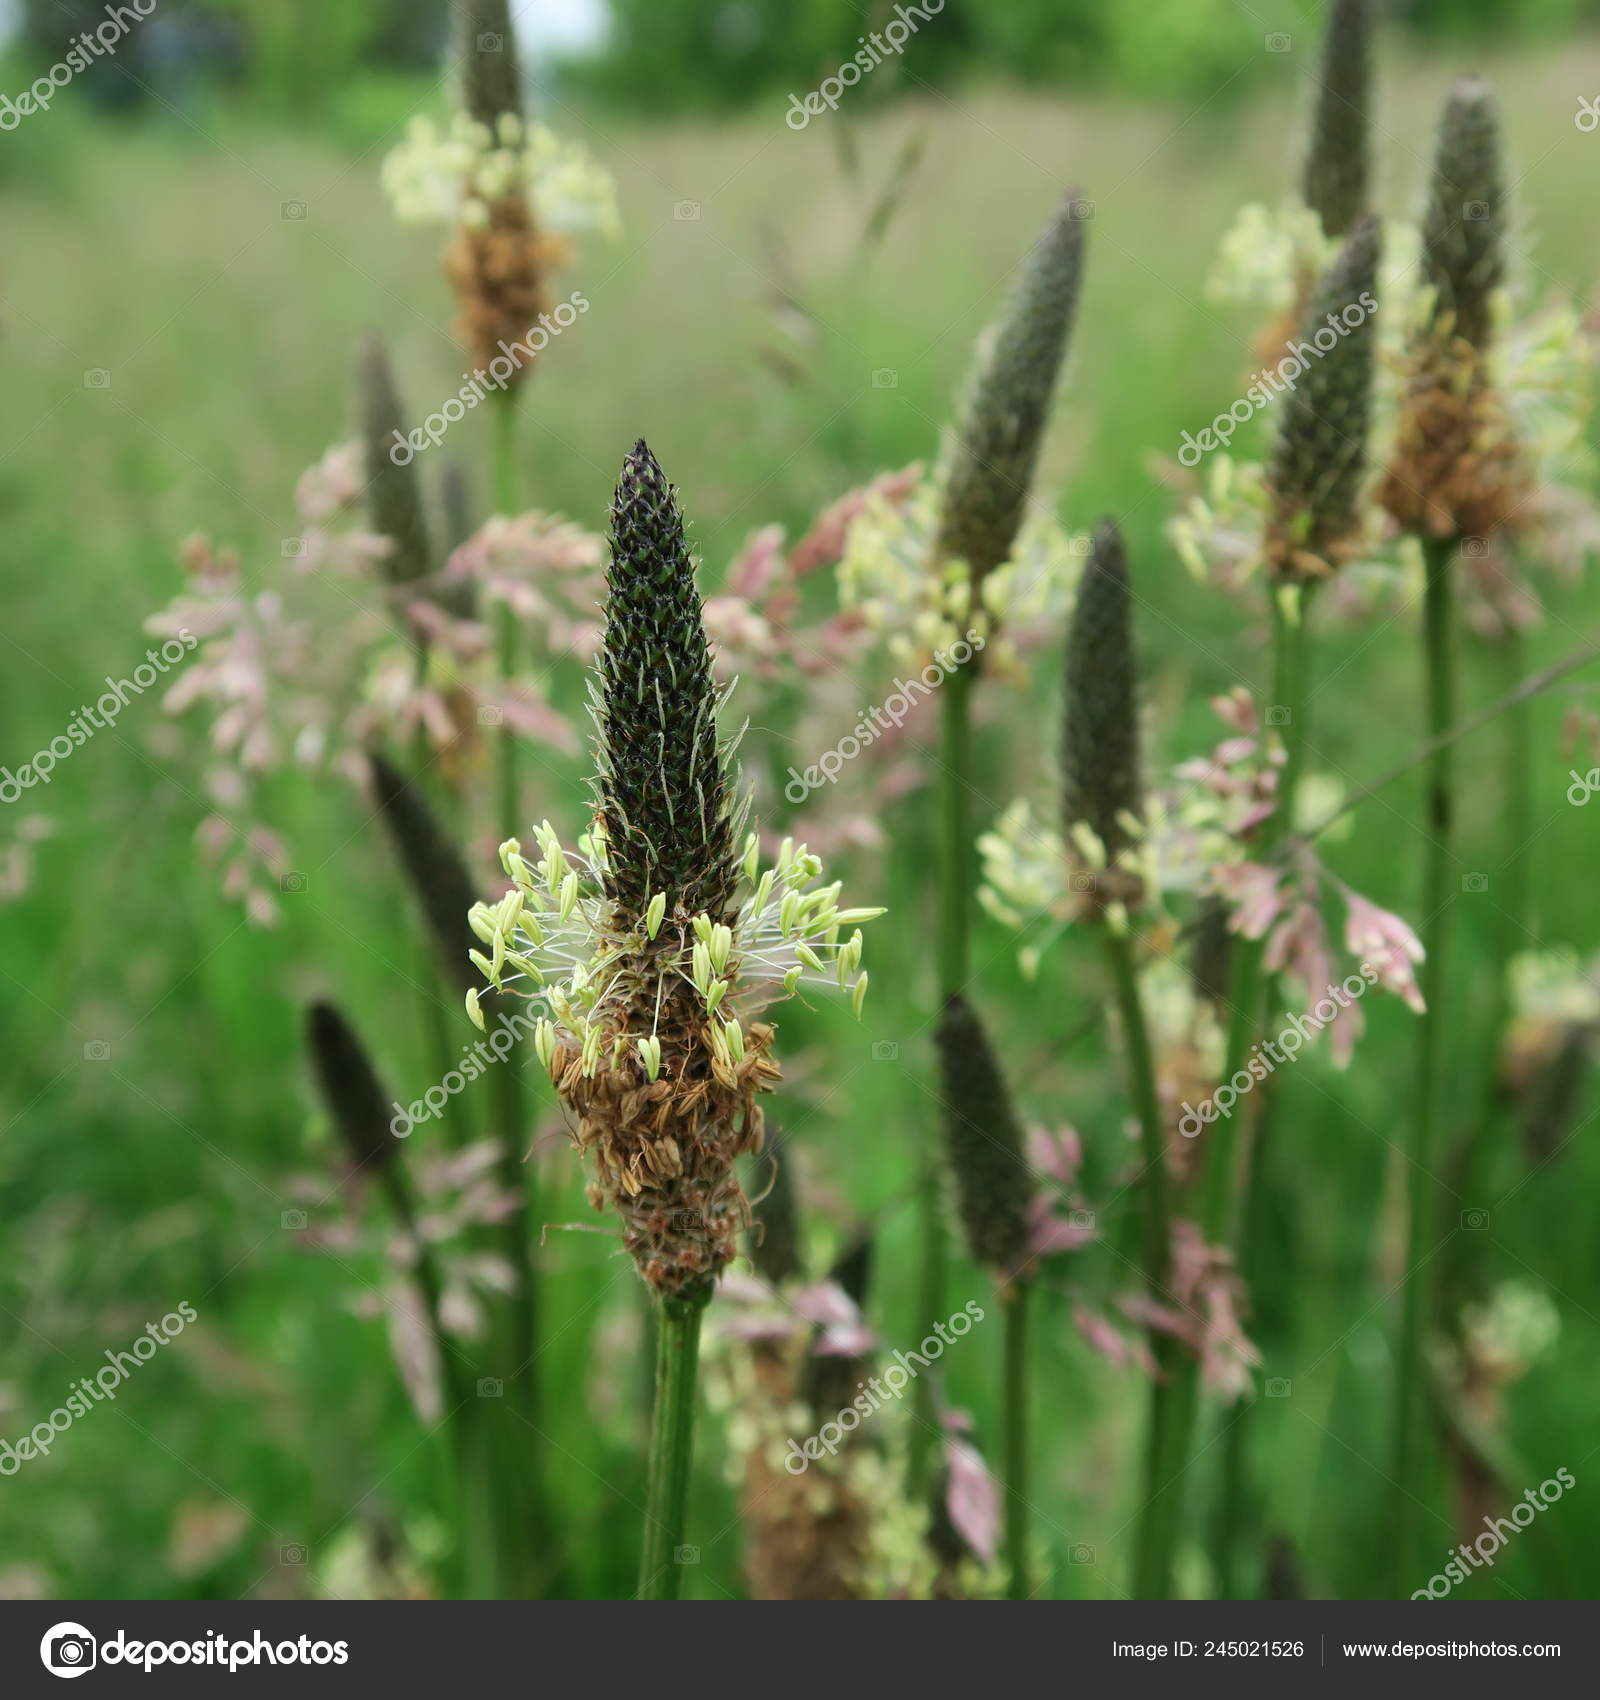buckhorn plantain: (883, 27, 1574, 1541), (460, 416, 815, 1637)
